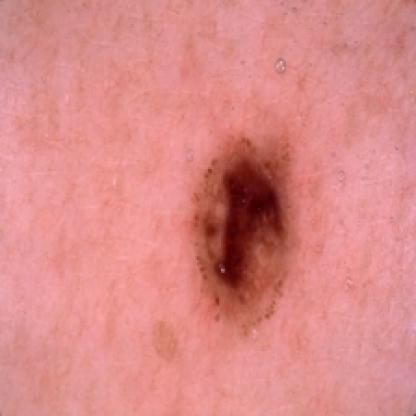Skin_Cancer-Malignant: (189, 133, 305, 334)
